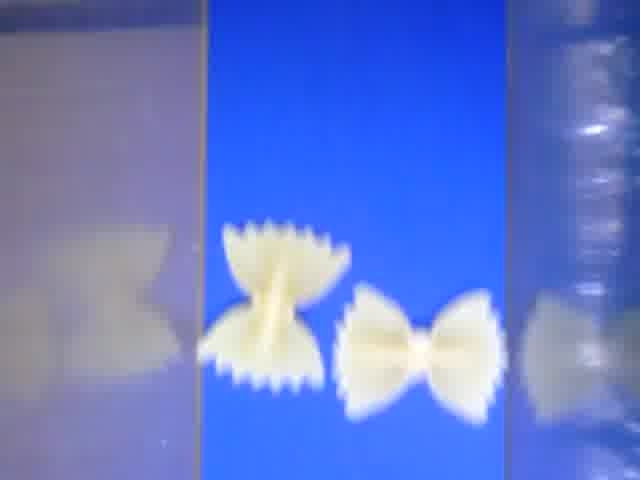farfalle: (201, 221, 354, 390), (335, 281, 505, 426)
